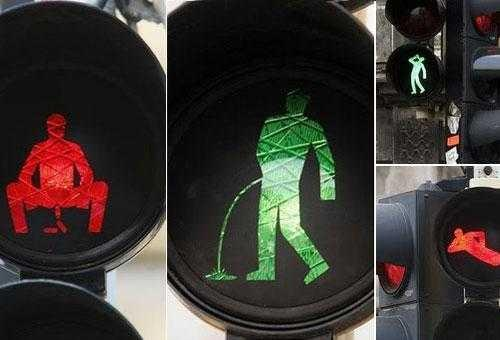green: (198, 78, 352, 309), (392, 40, 440, 102)
red: (0, 83, 131, 258), (442, 197, 500, 281)
